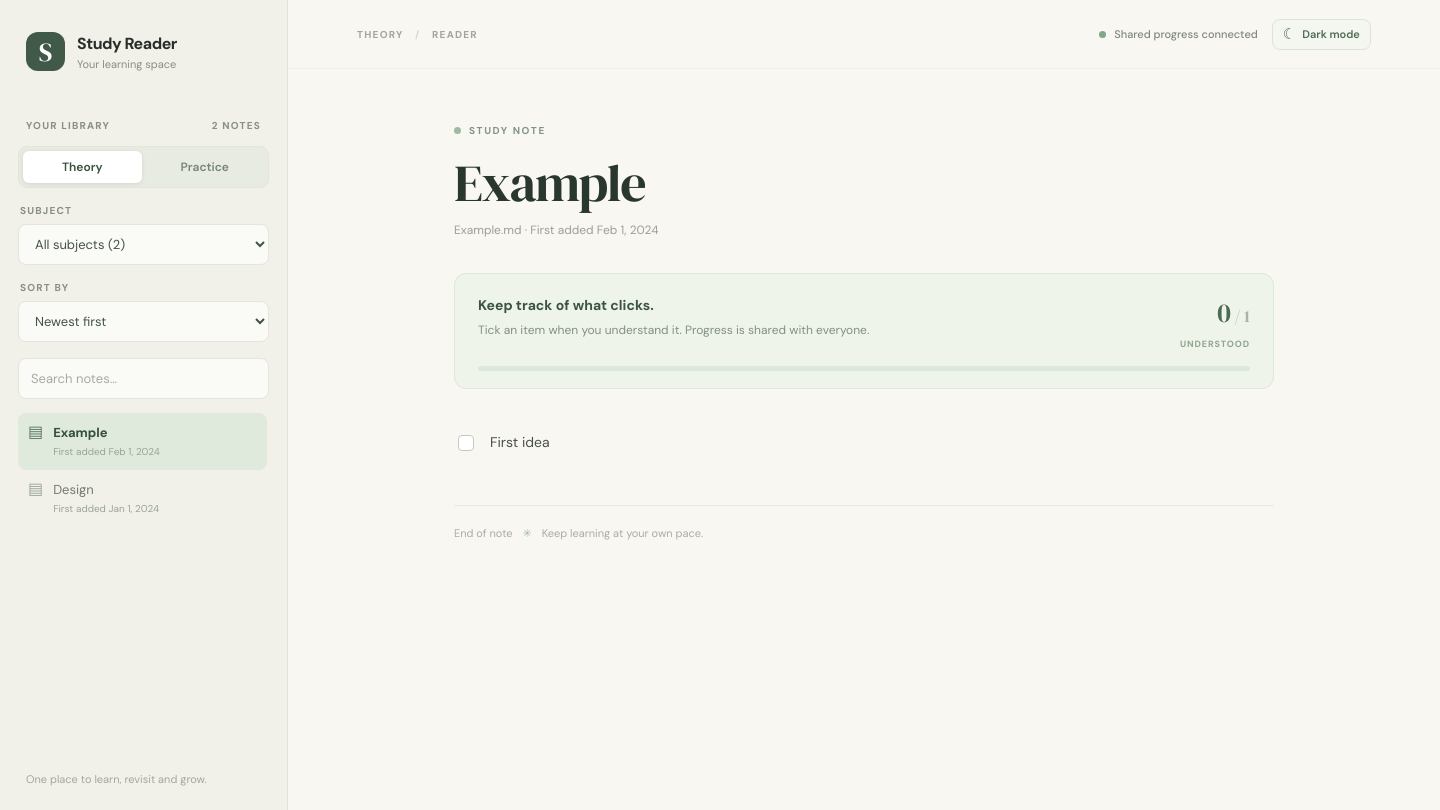
Scenario: reader UI with a simulated progress service › shows empty subjects without implying the connection is still loading
Step 1. Select "AI (0)" in the dropdown labelled "Subject" → (144, 244), box left=18, top=224, right=269, bottom=265
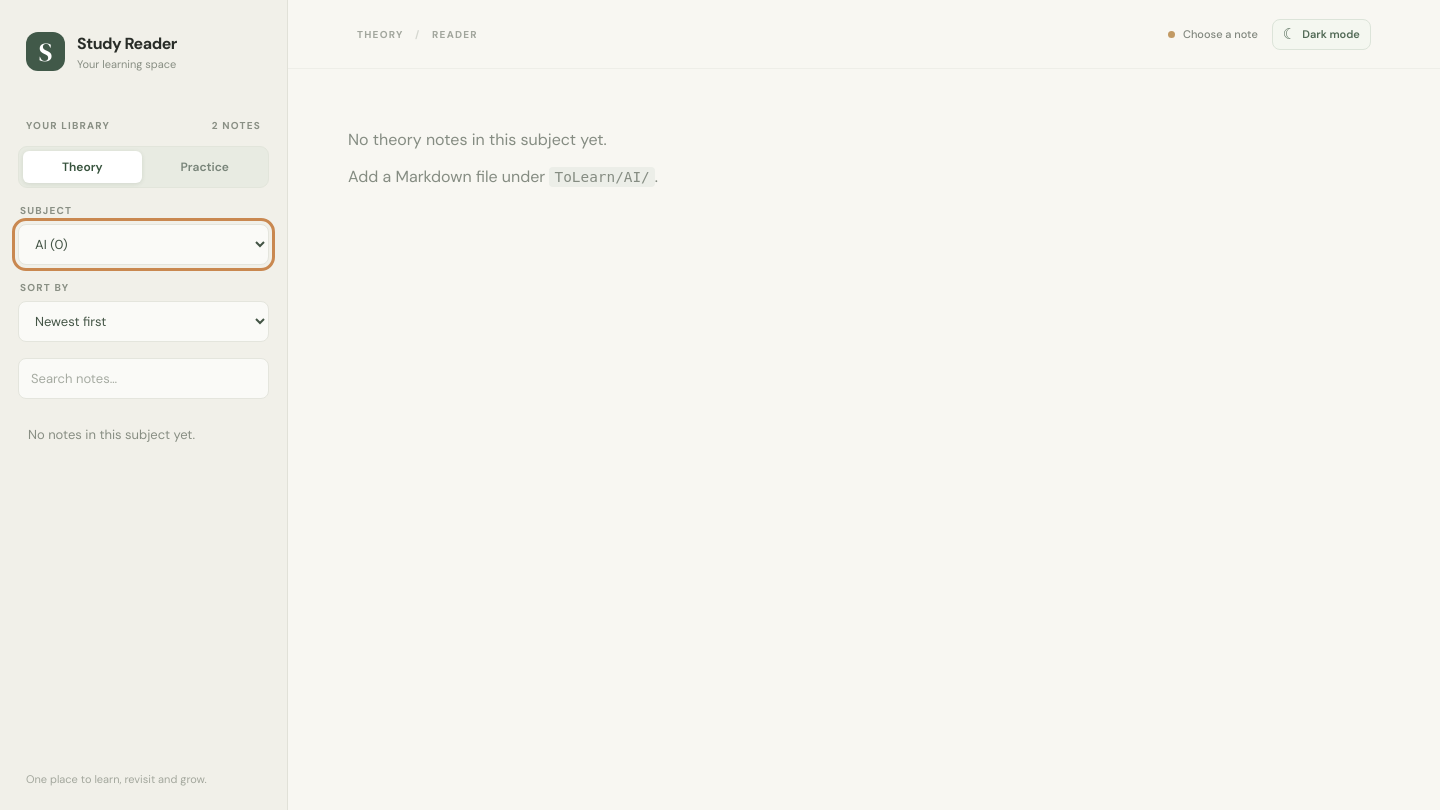
Expected: the text "No theory notes in this subject yet." is shown, left=348, top=129, right=607, bottom=150
Expected: the text "Choose a note" is shown, left=1168, top=27, right=1258, bottom=41
Step 2. Select "All subjects (2)" in the dropdown labelled "Subject" → (144, 244), box left=18, top=224, right=269, bottom=265
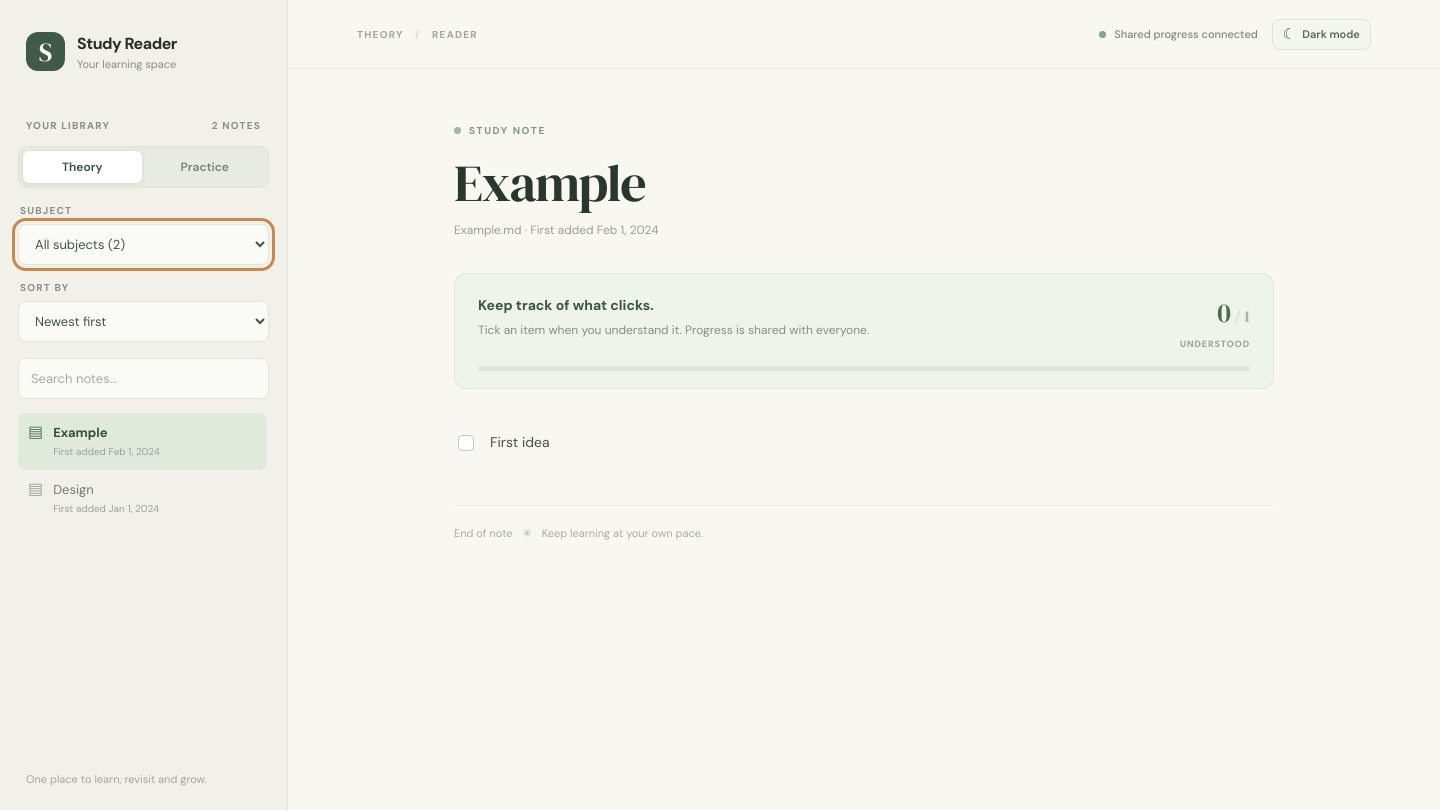
Expected: the heading "Example" is shown, left=454, top=147, right=645, bottom=218
